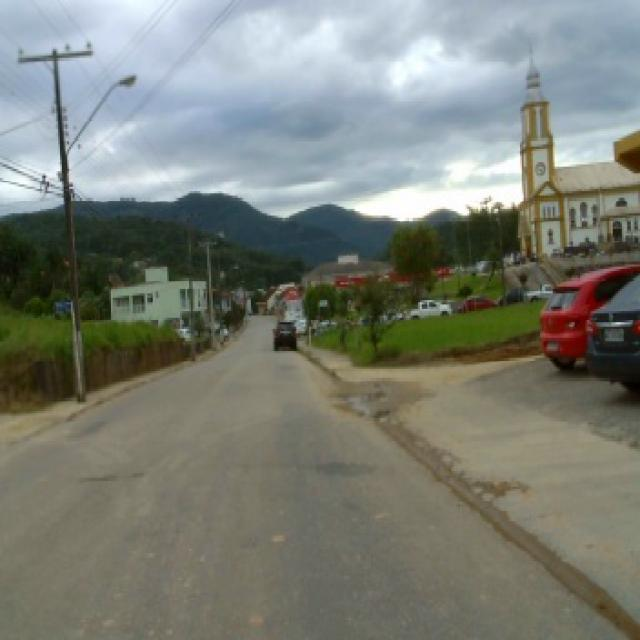Poth-hole: (334, 378, 396, 420), (72, 469, 148, 482)
